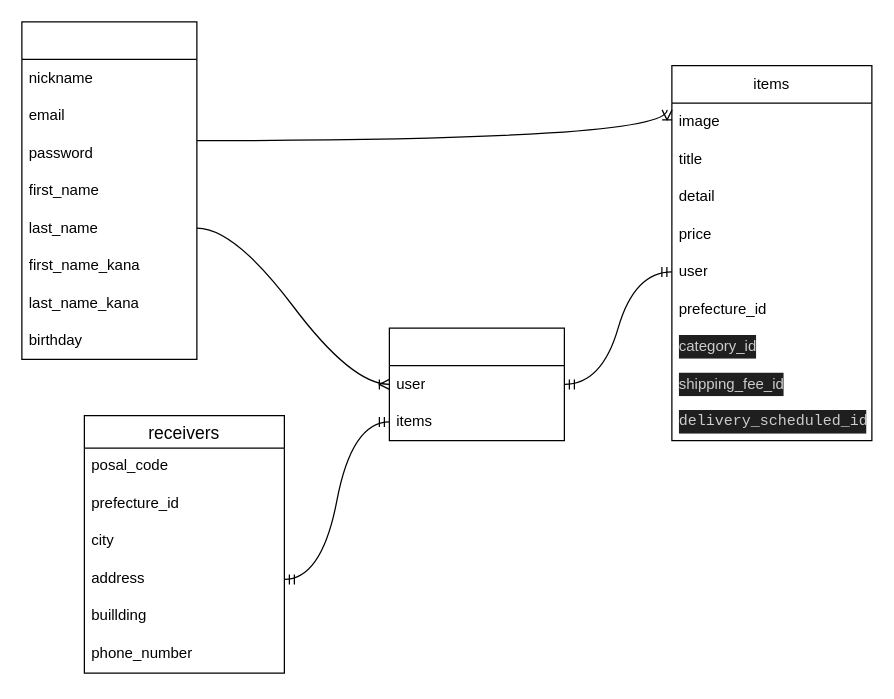
This 894x699 diagram has some shape labels left out. The shapes that lost their labels are listed below. From the top down, each one's box as (x1, y1, x2, y2) in pixels, then its label:
(21, 21, 197, 359): Users
(388, 327, 564, 441): orders
